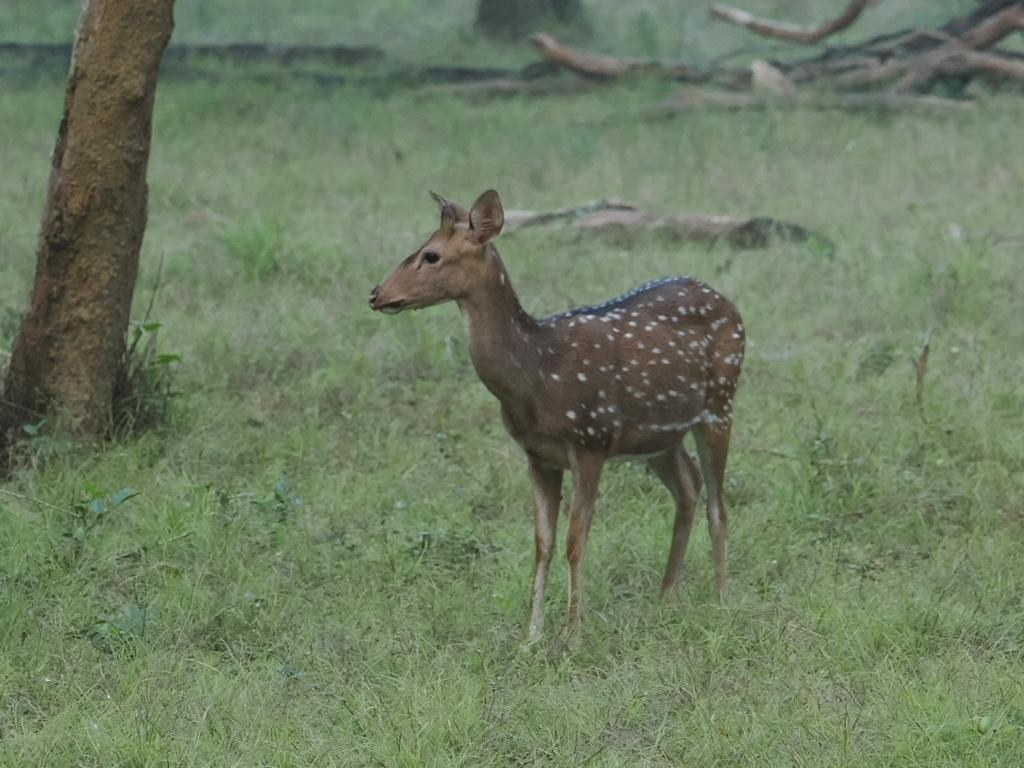Deer: (368, 190, 745, 638)
